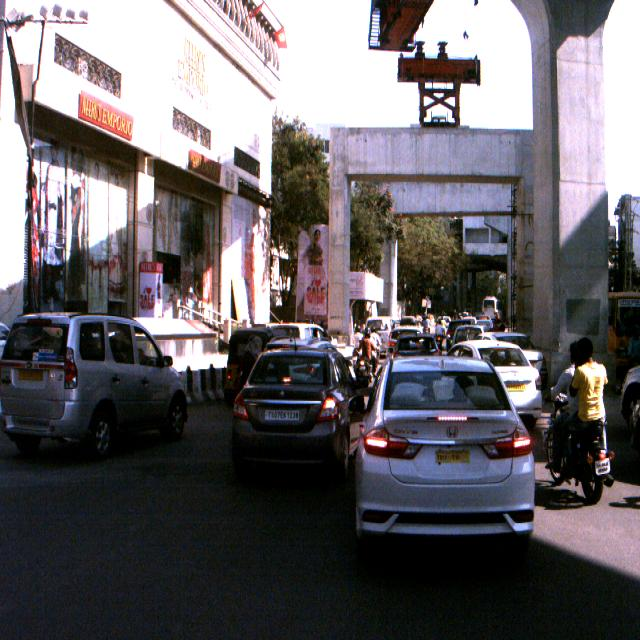car ahead at: (360, 342, 541, 558), (0, 296, 189, 452), (232, 346, 356, 481)
motorcycle ahead at: (536, 398, 620, 514)
